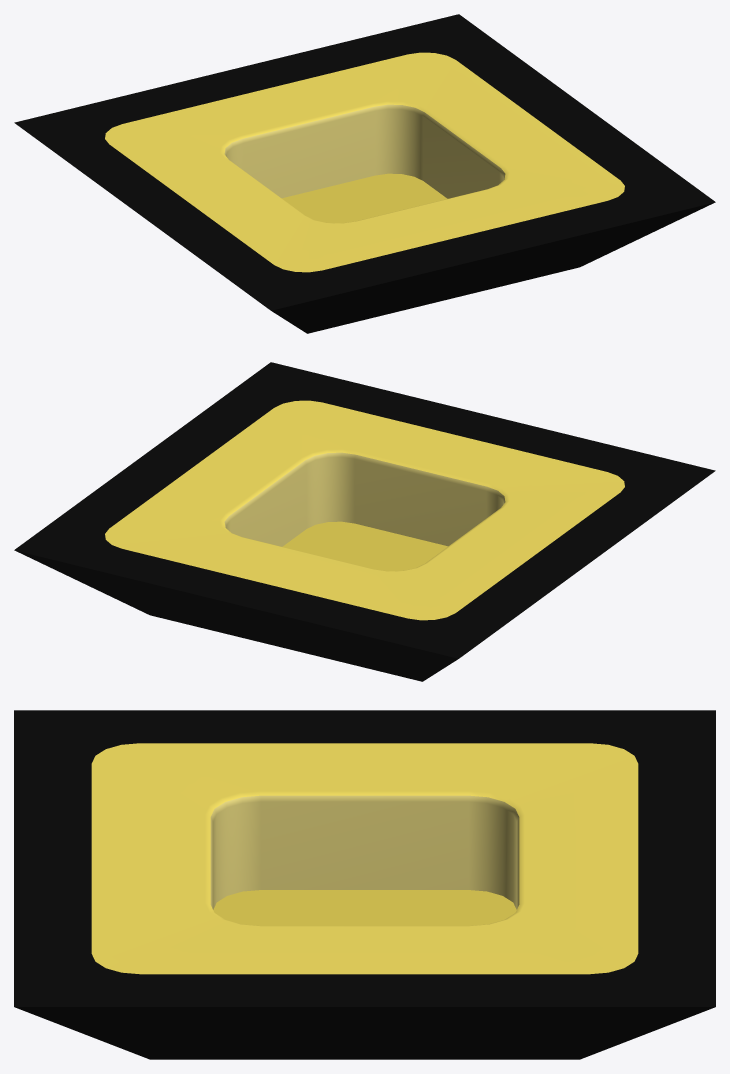
Rendered from Cell_Yellow_V3.fbx.
The picture shows the model from 3 angles, top to bottom: view 1: azimuth 30°, elevation 25°; view 2: azimuth 150°, elevation 25°; view 3: azimuth 270°, elevation 25°; orthographic projection. The views are drawn at different scales.
Visible parts, largest first — view 1: Tile_Yellow, Cell_Border; view 2: Tile_Yellow, Cell_Border; view 3: Tile_Yellow, Cell_Border.
Boxes of the visible parts, x1,y1,x2,y2 form: Tile_Yellow: (105,52,624,272); Cell_Border: (14,14,715,333); Tile_Yellow: (105,400,624,620); Cell_Border: (14,362,715,681); Tile_Yellow: (91,743,638,974); Cell_Border: (14,710,715,1059).
Size of the model in its own units: 112 by 19.36 by 112.
